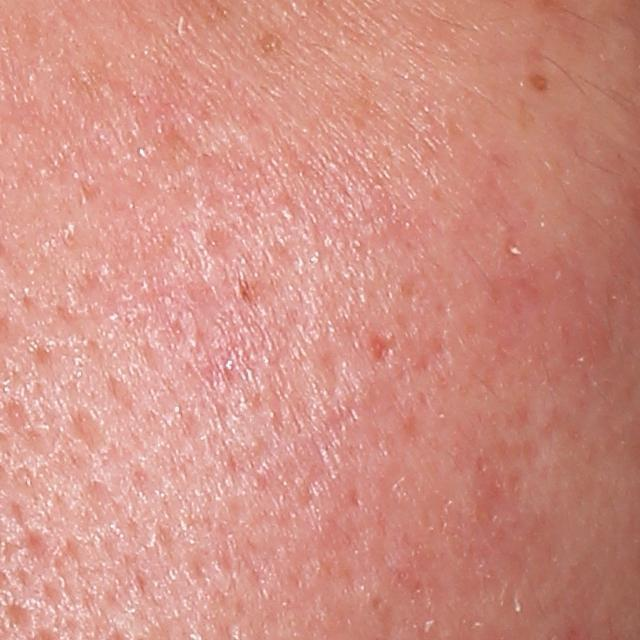atrophic_scar: (66, 406, 114, 454), (366, 331, 393, 362)
melasma: (525, 48, 553, 95), (254, 26, 295, 57)
